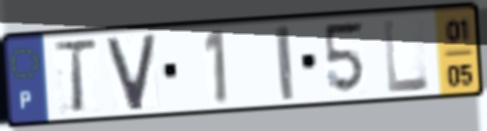1: (202, 27, 230, 107)
5: (320, 21, 369, 98)
I: (272, 22, 297, 104)
L: (380, 16, 433, 96)
T: (50, 36, 102, 117)
V: (103, 31, 160, 114)
